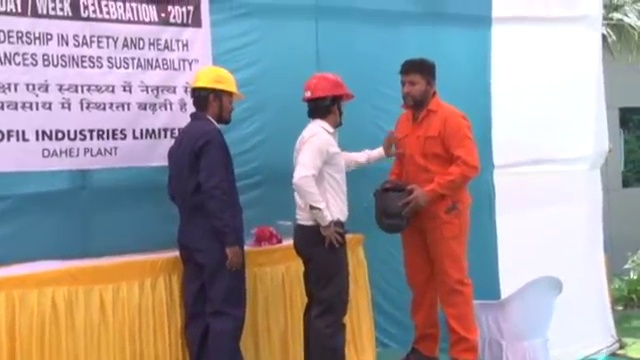helmet: (191, 63, 244, 101), (301, 70, 356, 101)
helmet_off: (398, 57, 438, 106)
helmet_on: (190, 61, 245, 128), (299, 68, 356, 129)
person: (292, 68, 397, 360), (391, 56, 480, 360), (165, 62, 252, 359)
